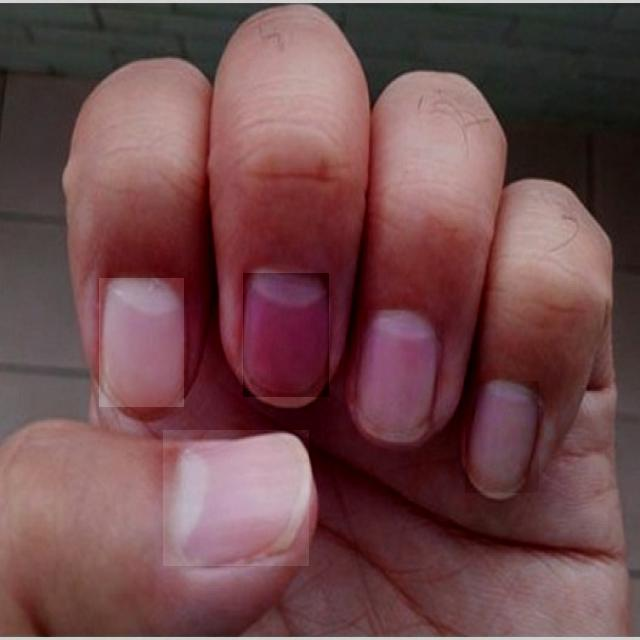sehat: (163, 431, 309, 566), (357, 310, 440, 444), (100, 279, 184, 407), (243, 273, 329, 397), (465, 382, 539, 493)
